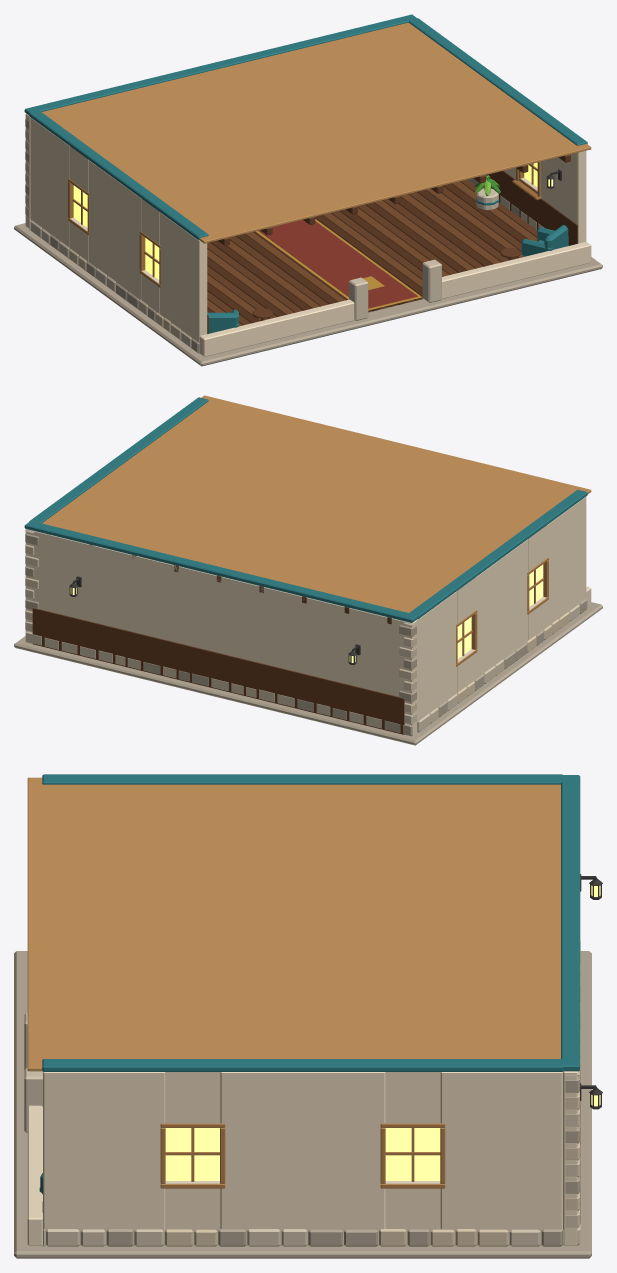
File: casino_interior_shell.glb
The picture shows the model from 3 angles, top to bottom: view 1: azimuth 30°, elevation 25°; view 2: azimuth 150°, elevation 25°; view 3: azimuth 270°, elevation 25°; orthographic projection. The views are drawn at different scales.
Parts seen in each view (by area): view 1: casino_interior_shell, casino_interior_shell_ceiling; view 2: casino_interior_shell, casino_interior_shell_ceiling; view 3: casino_interior_shell_ceiling, casino_interior_shell.
Part boxes in pixels (x1,y1,x2,y2): casino_interior_shell: (14, 14, 602, 366); casino_interior_shell_ceiling: (42, 22, 591, 245); casino_interior_shell: (14, 397, 602, 745); casino_interior_shell_ceiling: (42, 395, 591, 624); casino_interior_shell_ceiling: (27, 777, 560, 1071); casino_interior_shell: (14, 774, 602, 1258).
Size of the model in its own units: 10.4 by 3.02 by 8.56.
